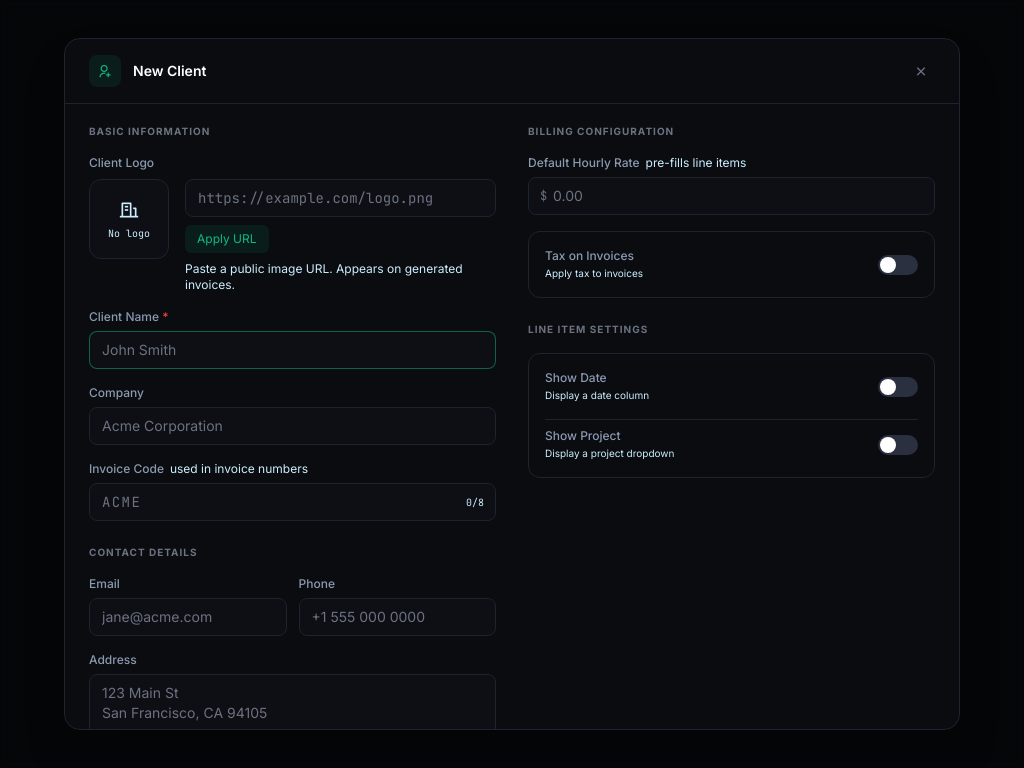
Scenario: ClientFormModal › checks for short code availability
The width and height of the screenshot is (1024, 768).
Type "New Client" into the field with placeholder "John Smith". click: (292, 350)
box: 89,331 -> 496,369
(page scrolled)
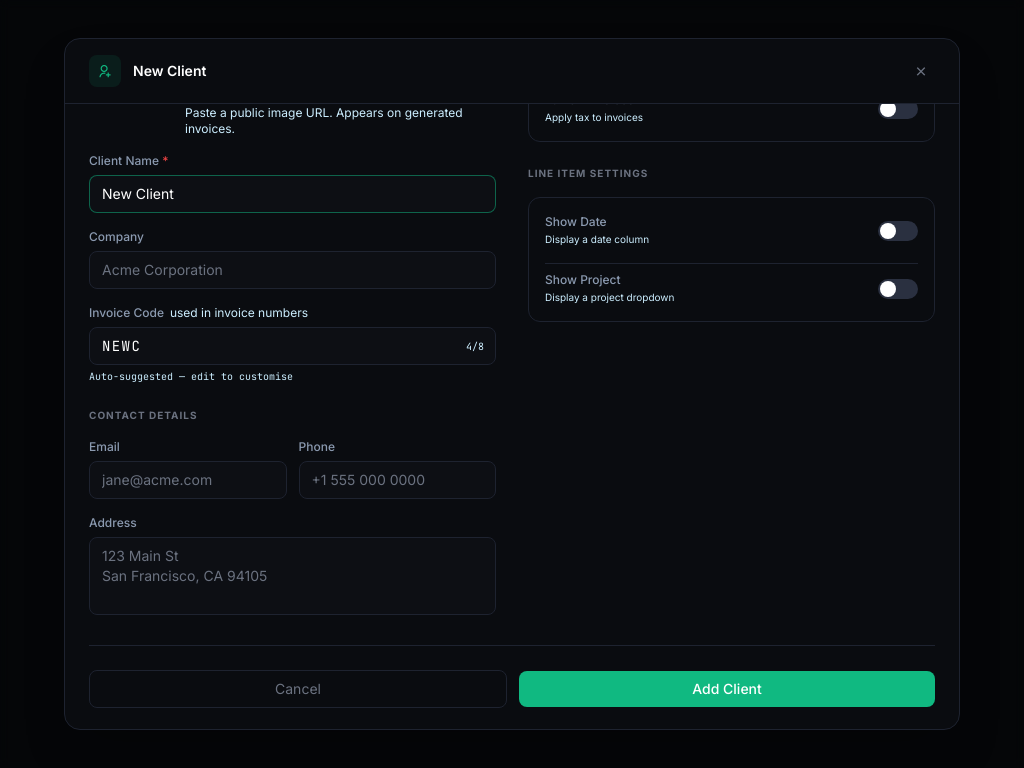
// SuggestCode should have filled it, let's trigger blur or just click submit
Click the button "Add Client". click: (727, 689)
box: 519,671 -> 935,707
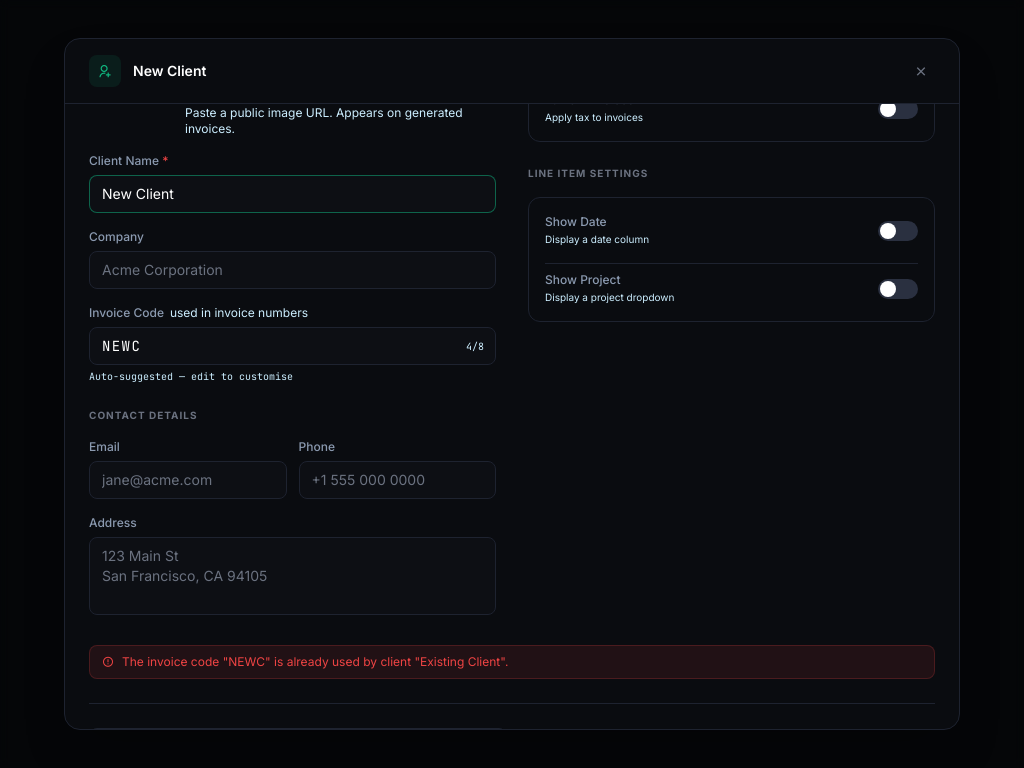
Check: the text "is already used by client \"Existing Client\"" is shown, box 122,654 -> 508,669
